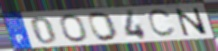0: (29, 16, 60, 45)
4: (124, 9, 147, 41)
C: (147, 8, 177, 39)
N: (173, 7, 211, 38)
O: (87, 11, 120, 42), (59, 13, 89, 44)
